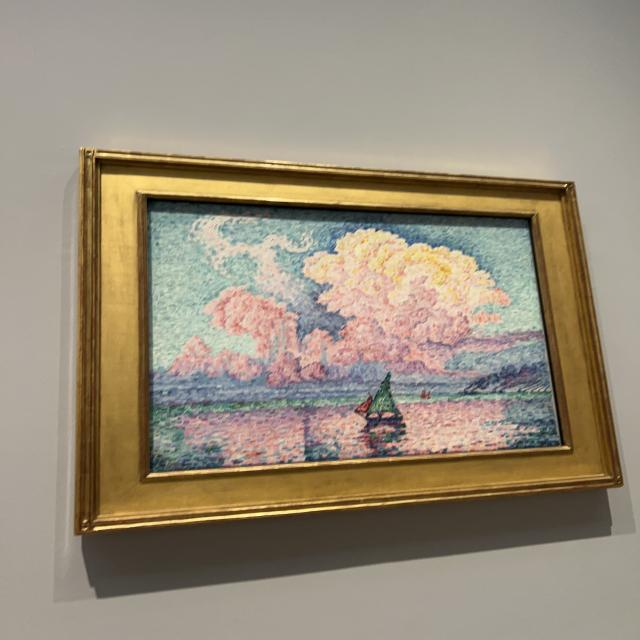sunrise: (150, 200, 562, 472)
